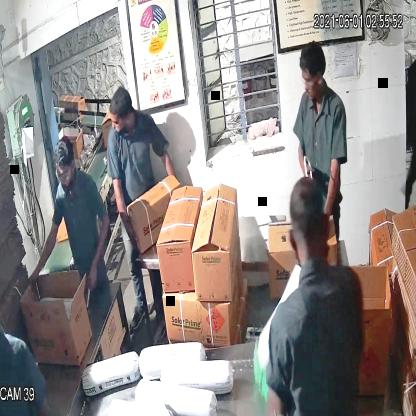goggles: (51, 162, 79, 186)
